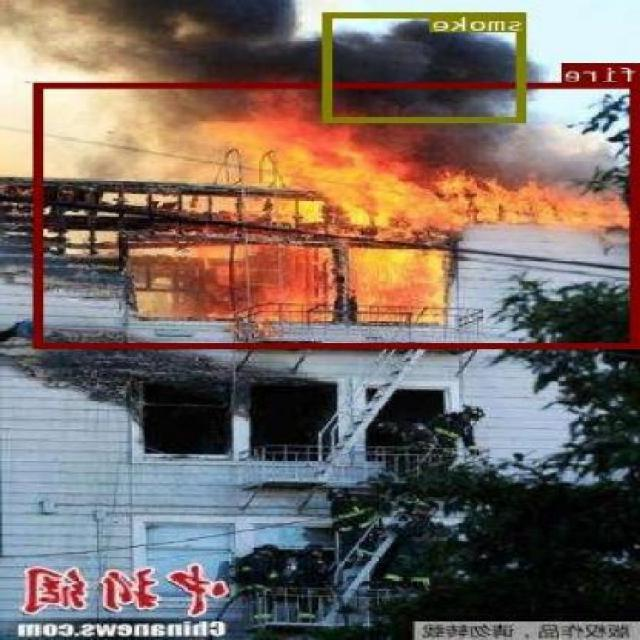Fire: (98, 115, 625, 317)
Smoke: (0, 5, 545, 163)
